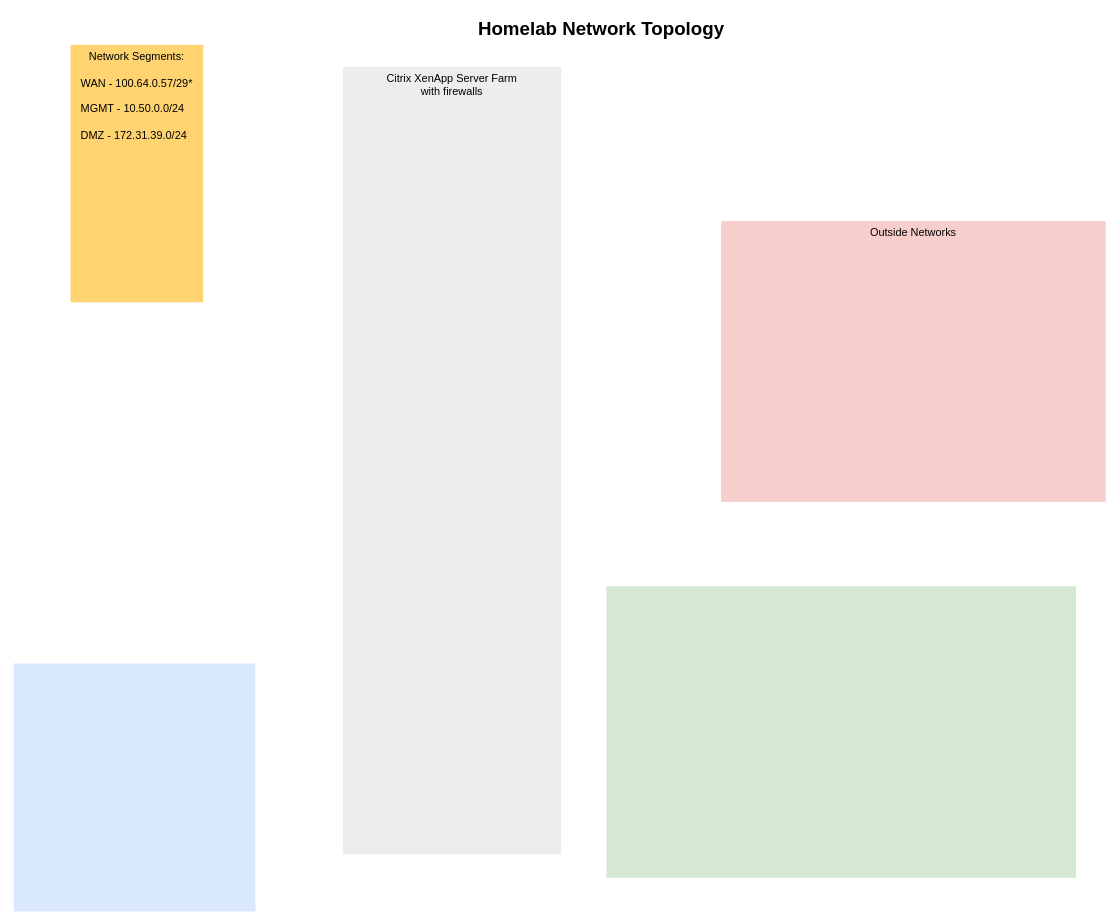
Image size: 1119x924. Some labels were removed from this diagram. Here are the shapes that lost their labels. From the top down, the box of each, then its label:
(606, 586, 1076, 878): Enterprise cloud
(13, 663, 255, 911): Residential Private Networks
